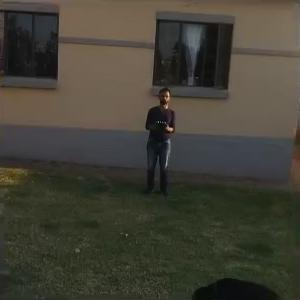follow: (140, 84, 176, 207)
